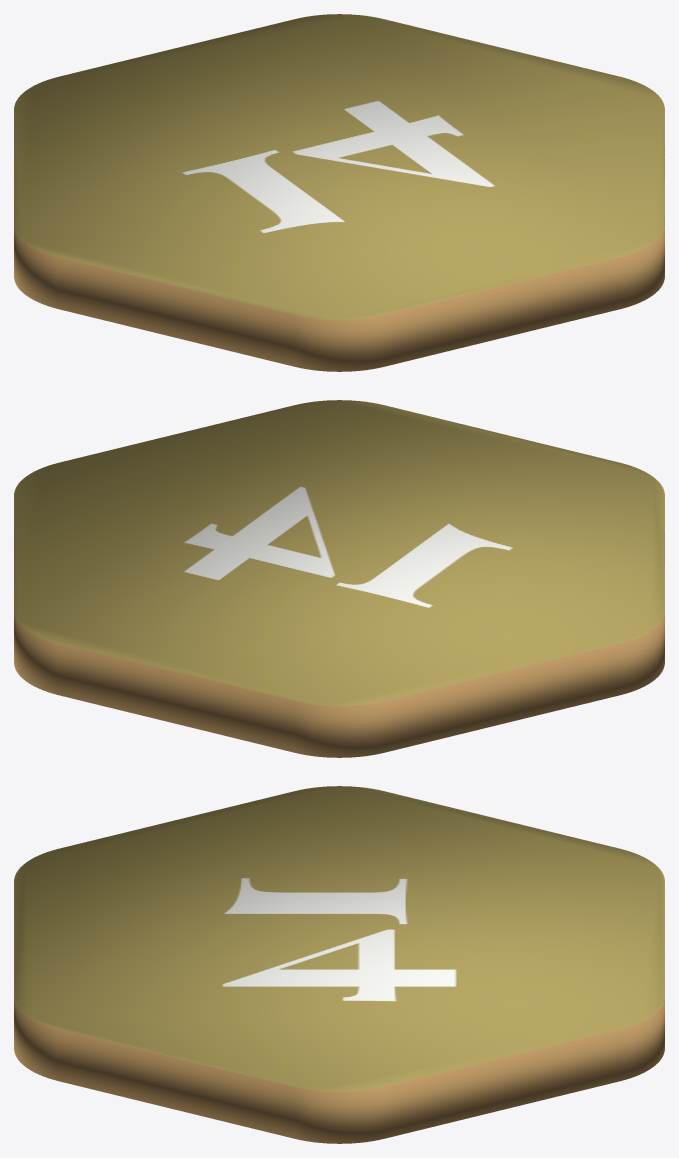
Rendered from hex_14.glb.
The picture shows the model from 3 angles, top to bottom: view 1: azimuth 30°, elevation 25°; view 2: azimuth 150°, elevation 25°; view 3: azimuth 270°, elevation 25°; orthographic projection.
Parts seen in each view (by area): view 1: hex_14; view 2: hex_14; view 3: hex_14.
Boxes of the visible parts, <box> form: hex_14: <box>14,14,664,371</box>; hex_14: <box>14,400,664,757</box>; hex_14: <box>14,786,664,1143</box>.
Size of the model in its own units: 0.0304 by 0.0024 by 0.0273.
Materials: 2 (1 with a texture image).
